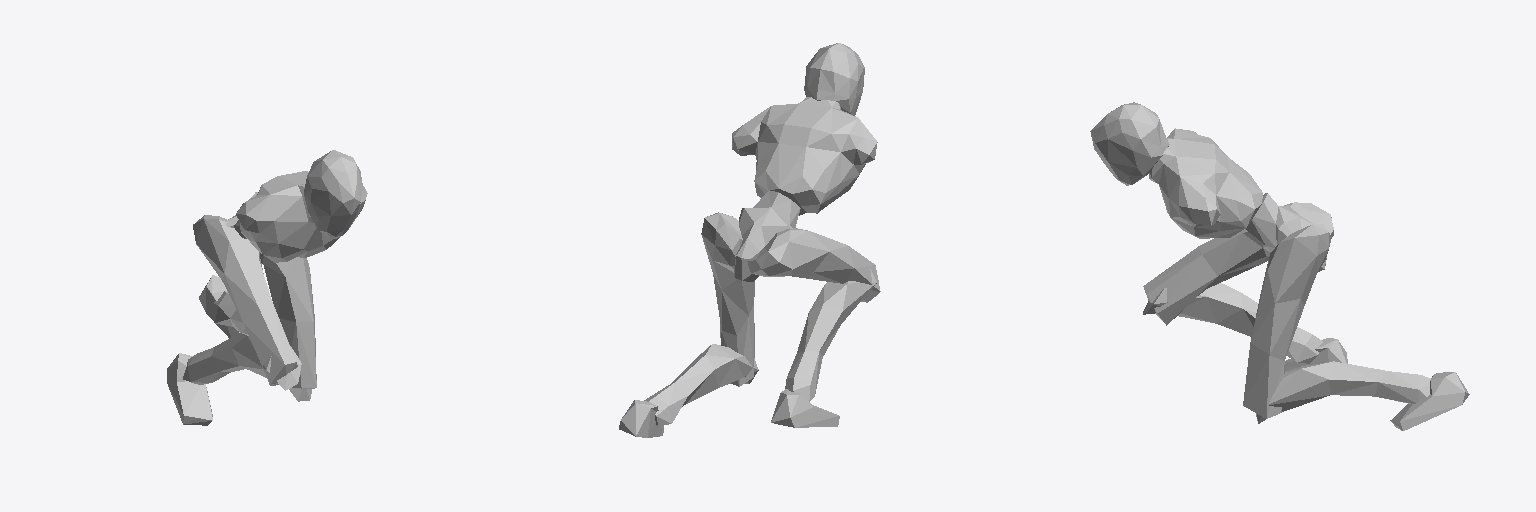
The model's file is filth13.obj.
3 renders of one model, left to right at view 1: azimuth 30°, elevation 25°; view 2: azimuth 150°, elevation 25°; view 3: azimuth 270°, elevation 25°, orthographic.
Visible parts, largest first — view 1: Melee_Husk; view 2: Melee_Husk; view 3: Melee_Husk.
Boxes of the visible parts, box(x1,y1,x2,y2) form: Melee_Husk: box(167, 150, 367, 425); Melee_Husk: box(619, 43, 880, 437); Melee_Husk: box(1090, 102, 1469, 430).
Size of the model in its own units: 22.19 by 45.66 by 50.58.